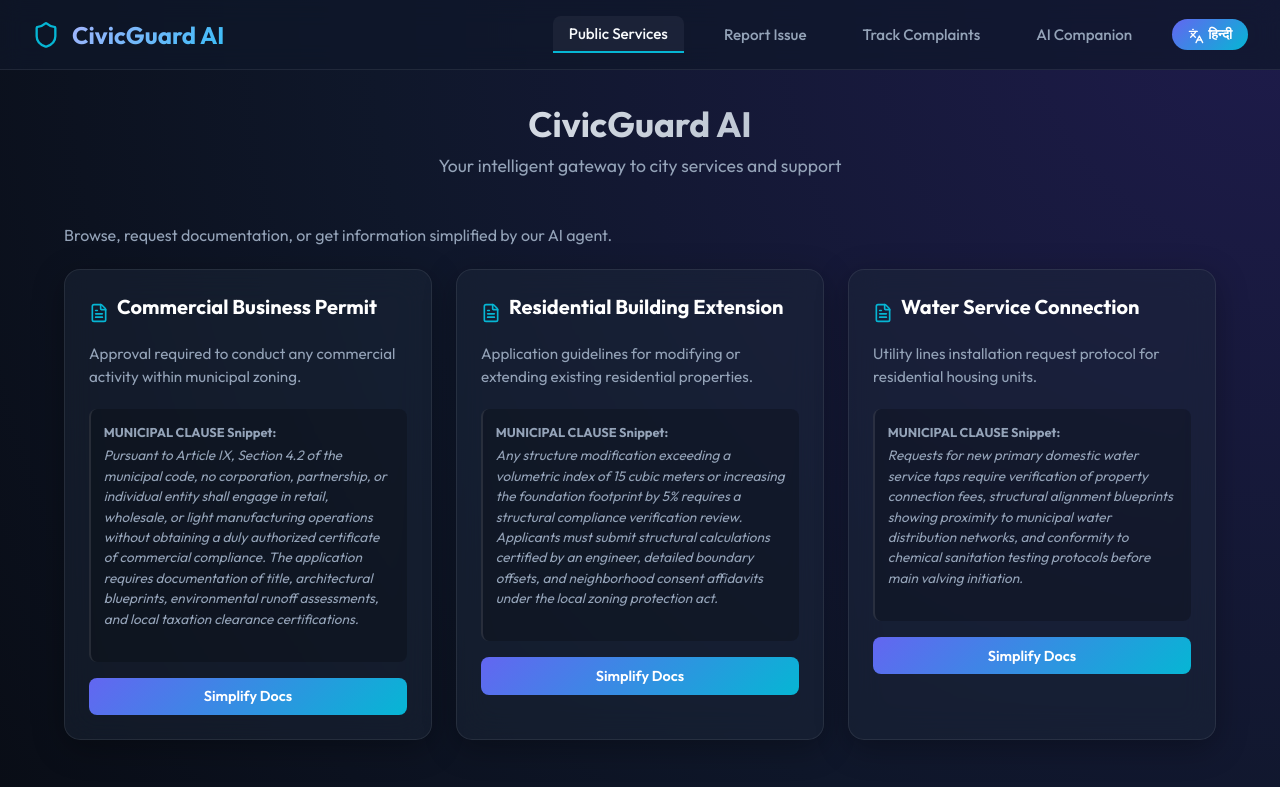
Test case: Tab navigation › switches to Report Issue tab on click
Click the button "Report Issue".
click(765, 34)  # box [708,17,823,52]
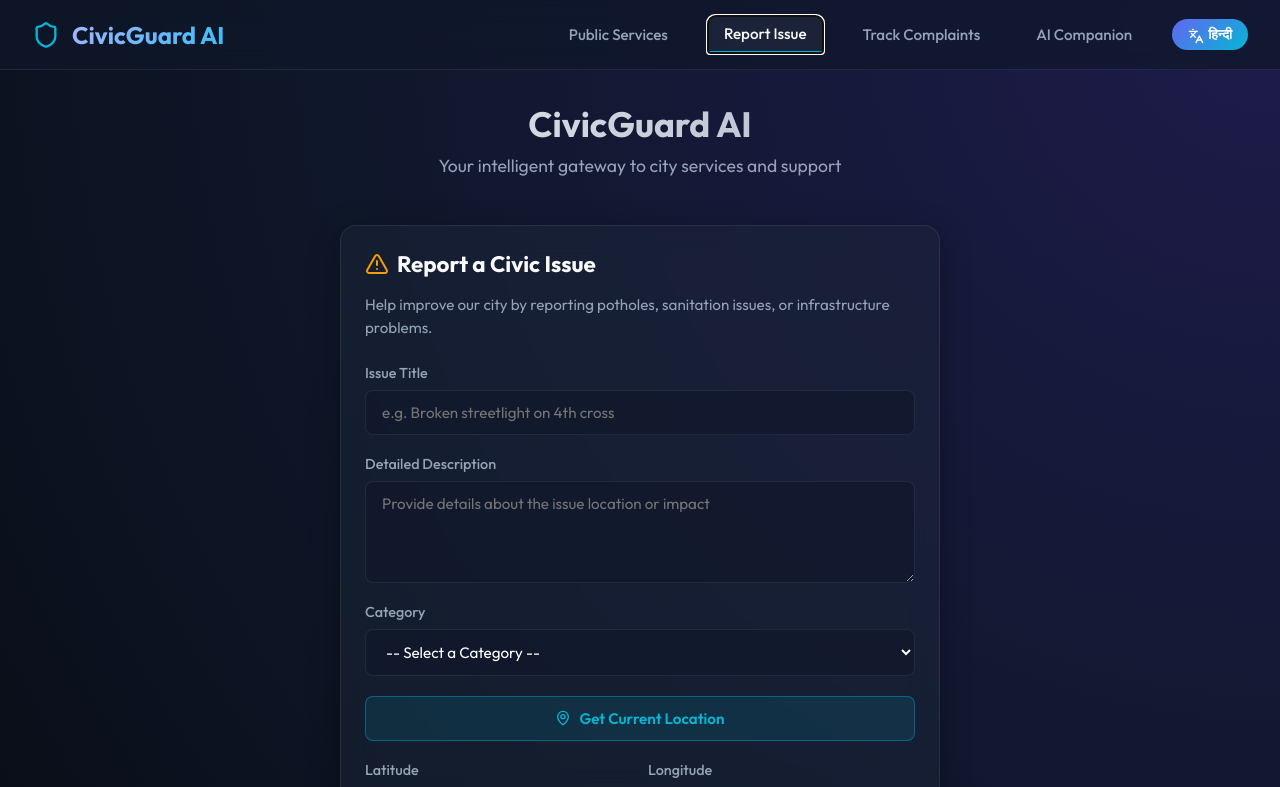
expect the heading "Report a Civic Issue" is shown: met, box [397,250,596,278]
